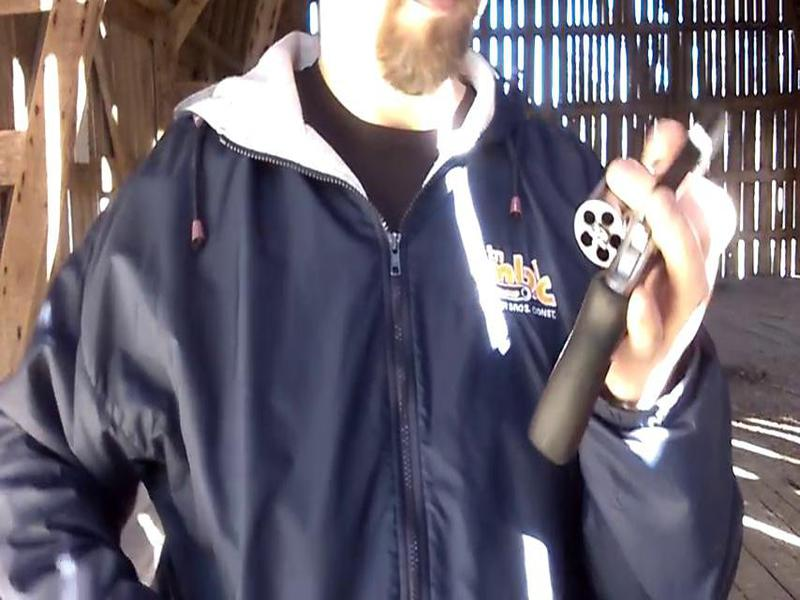Revolver: (507, 87, 746, 481)
